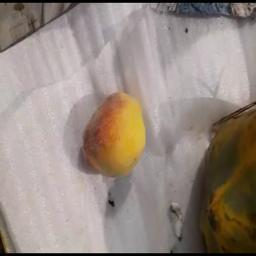Peach Semifresh: (70, 79, 164, 183)
